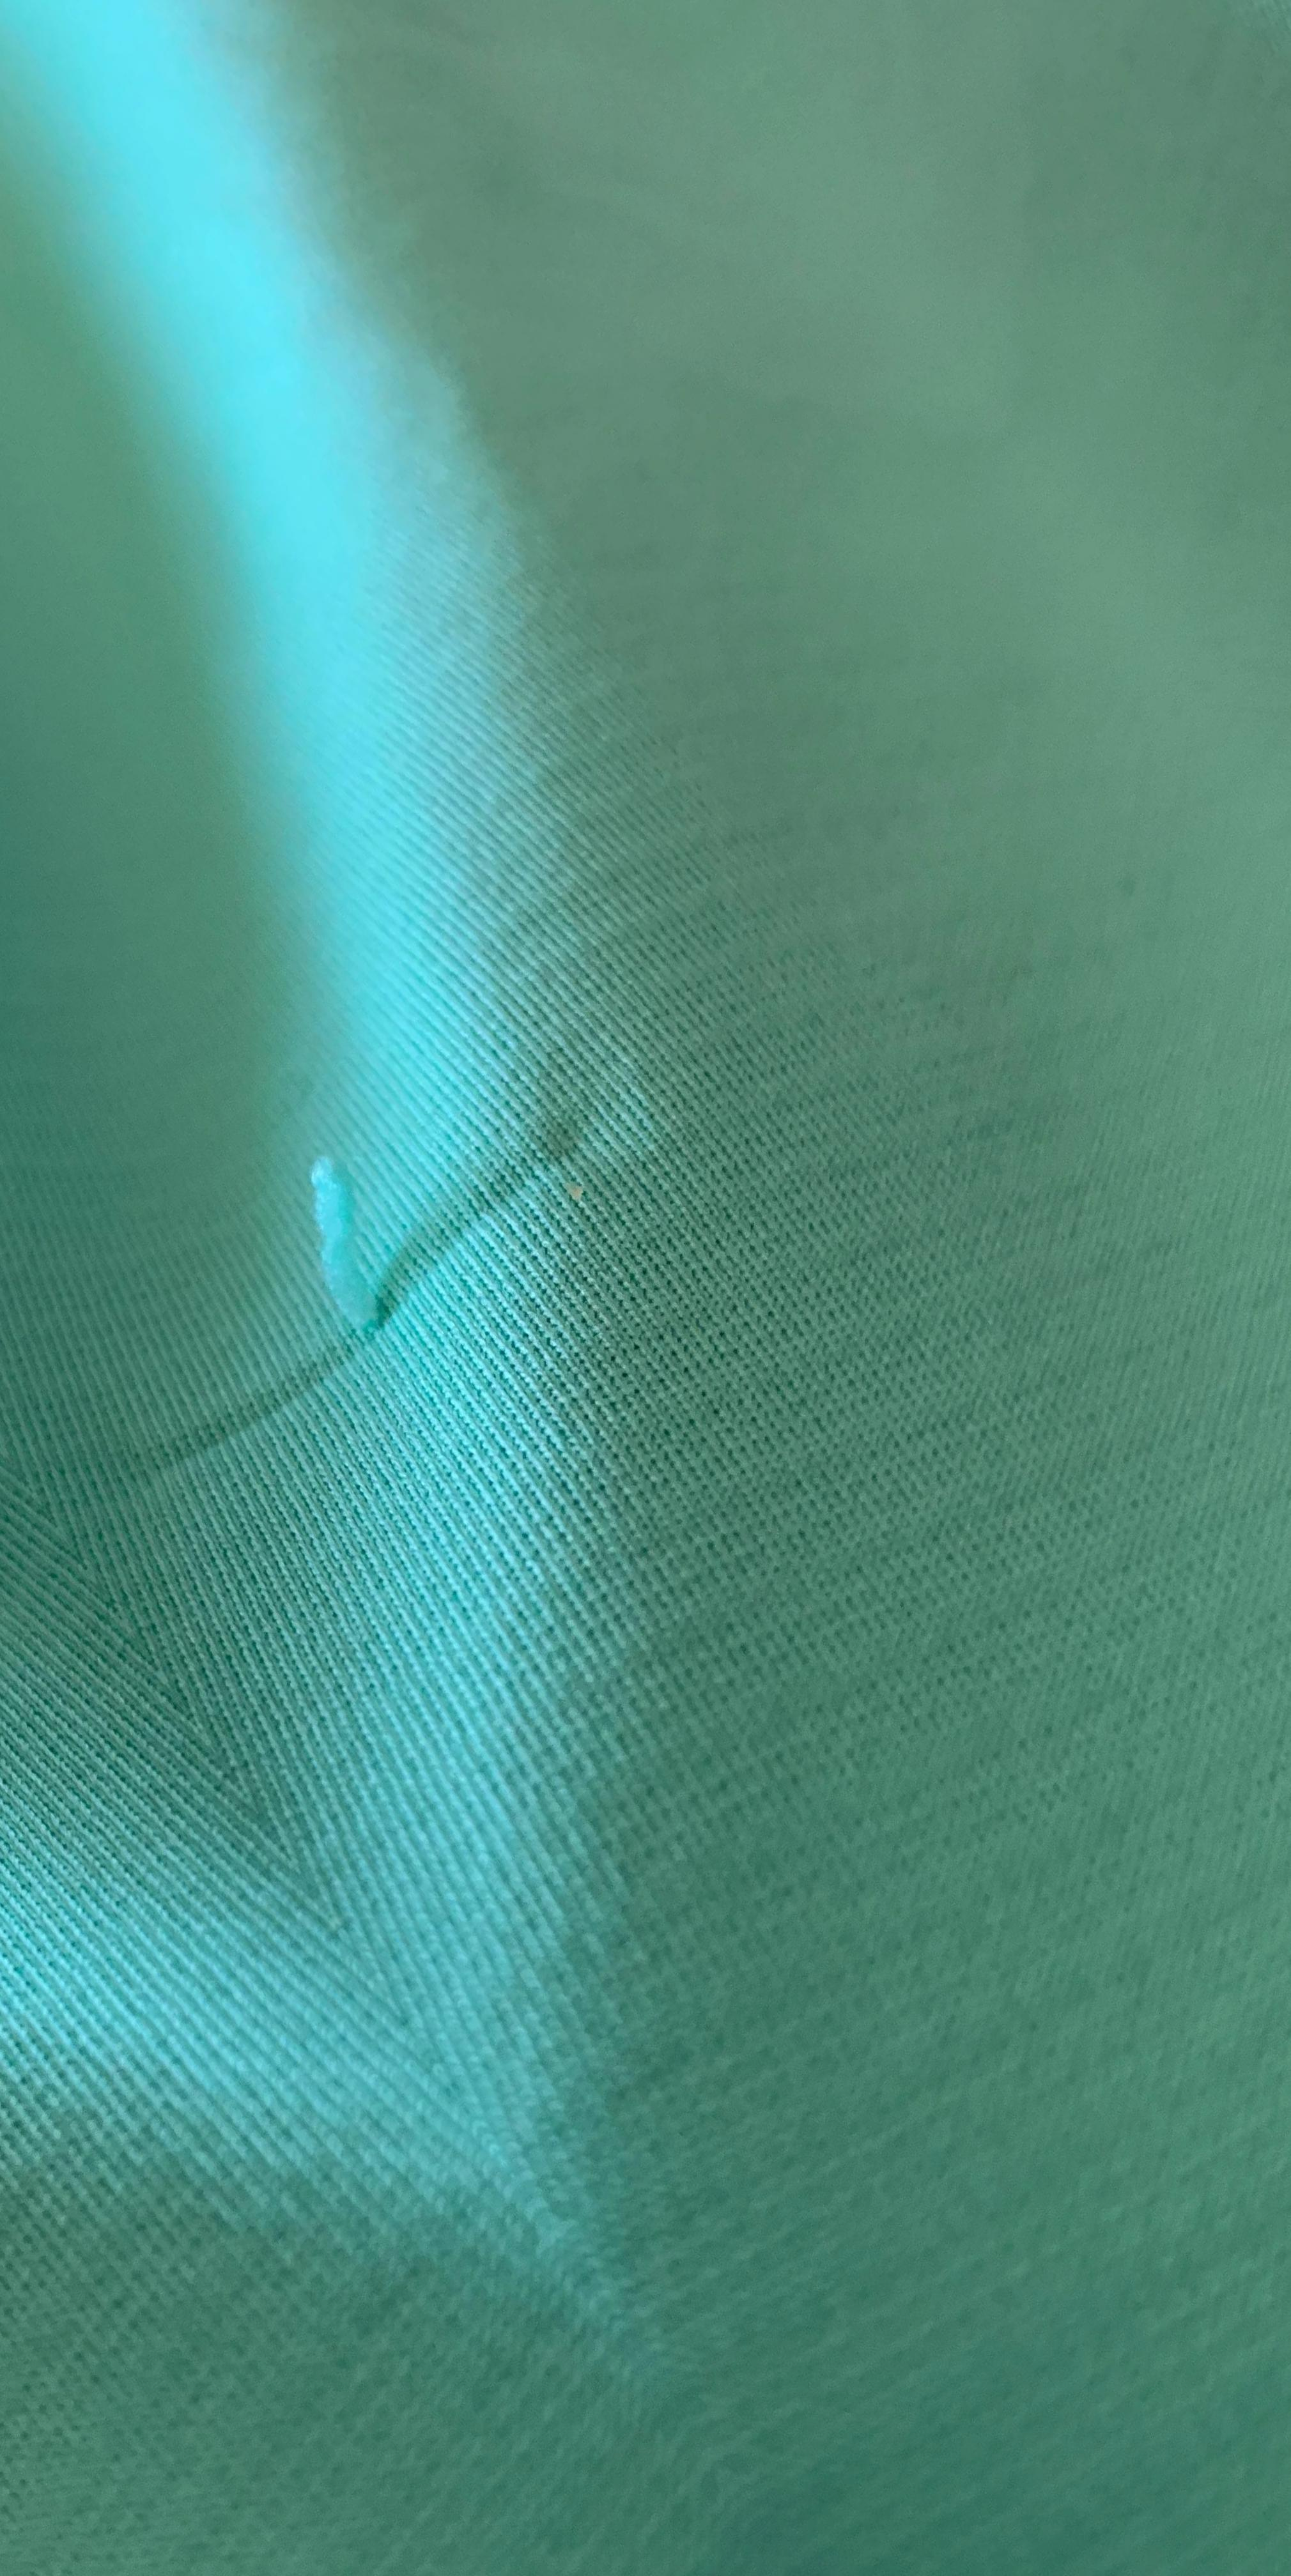snag: (227, 1027, 468, 1439)
